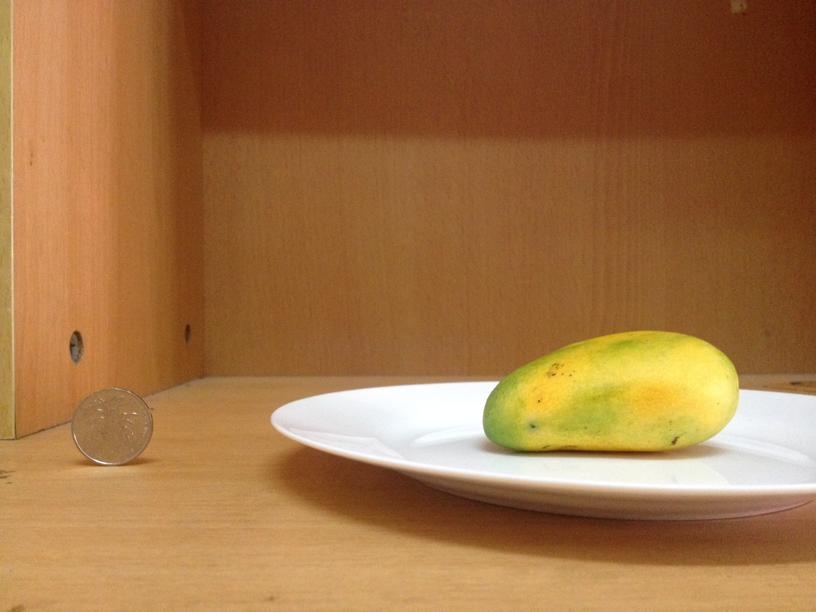coin: (69, 385, 154, 466)
mango: (483, 327, 738, 453)
